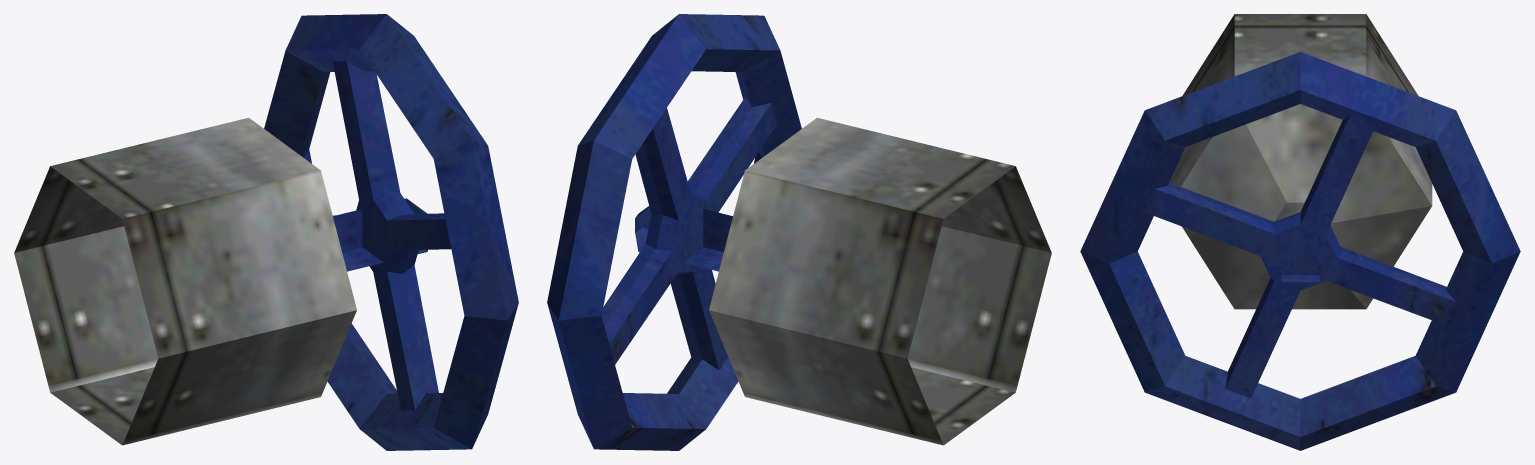
File: valve_blue_end_piece.fbx
3 renders of one model, left to right at view 1: azimuth 30°, elevation 25°; view 2: azimuth 150°, elevation 25°; view 3: azimuth 270°, elevation 25°, orthographic. The views are drawn at different scales.
Parts seen in each view (by area): view 1: valve_blue_end_piece; view 2: valve_blue_end_piece; view 3: valve_blue_end_piece.
Part boxes in pixels (x1,y1,x2,y2): valve_blue_end_piece: (14, 14, 518, 450); valve_blue_end_piece: (547, 14, 1051, 450); valve_blue_end_piece: (1080, 14, 1520, 450).
Size of the model in its own units: 33.99 by 41.67 by 41.67.
2 materials, 2 textured.
